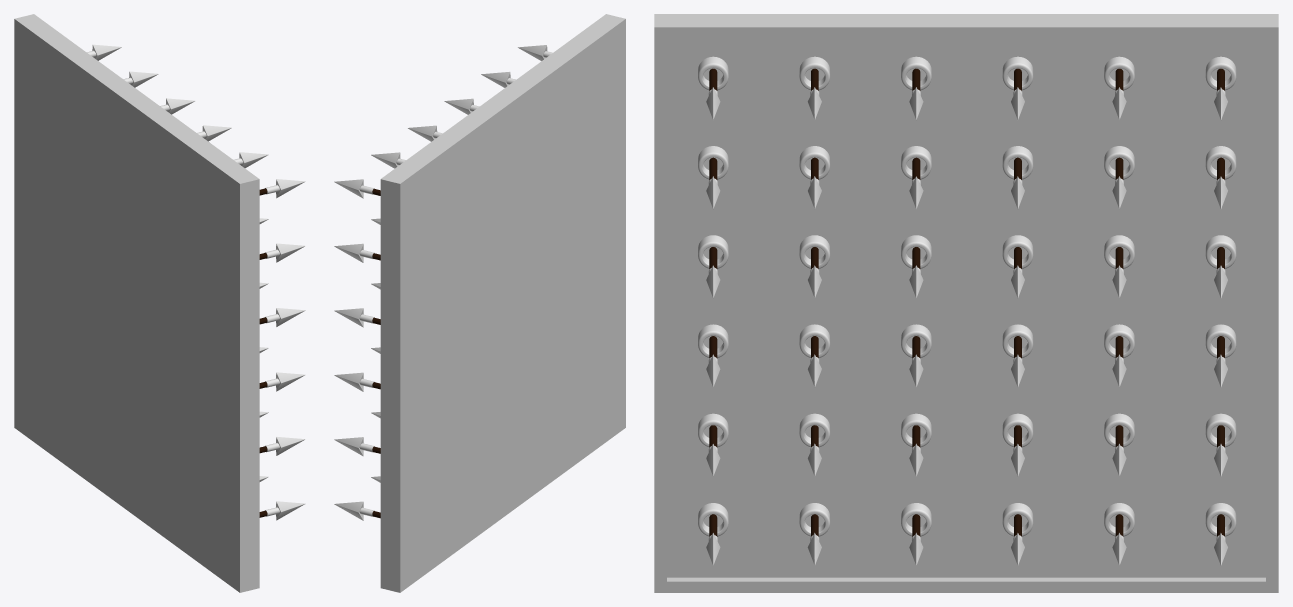
The model's file is ArmadilhaFlechas.fbx.
The picture shows the model from 3 angles, left to right: view 1: azimuth 30°, elevation 25°; view 2: azimuth 150°, elevation 25°; view 3: azimuth 270°, elevation 25°; orthographic projection. The views are drawn at different scales.
Visible parts, largest first — view 1: ArmadilhaFlechas, Suporte; view 2: ArmadilhaFlechas, Suporte; view 3: ArmadilhaFlechas, Suporte.001, Suporte.
Part boxes in pixels (x1,y1,x2,y2): ArmadilhaFlechas: (14, 14, 259, 592); Suporte: (87, 44, 305, 520); ArmadilhaFlechas: (380, 14, 625, 592); Suporte: (334, 45, 552, 520); ArmadilhaFlechas: (654, 14, 1278, 592); Suporte.001: (698, 56, 1236, 536); Suporte: (706, 68, 1228, 565).
Bounding box in the file's own units: 88.68 × 399 × 399.
